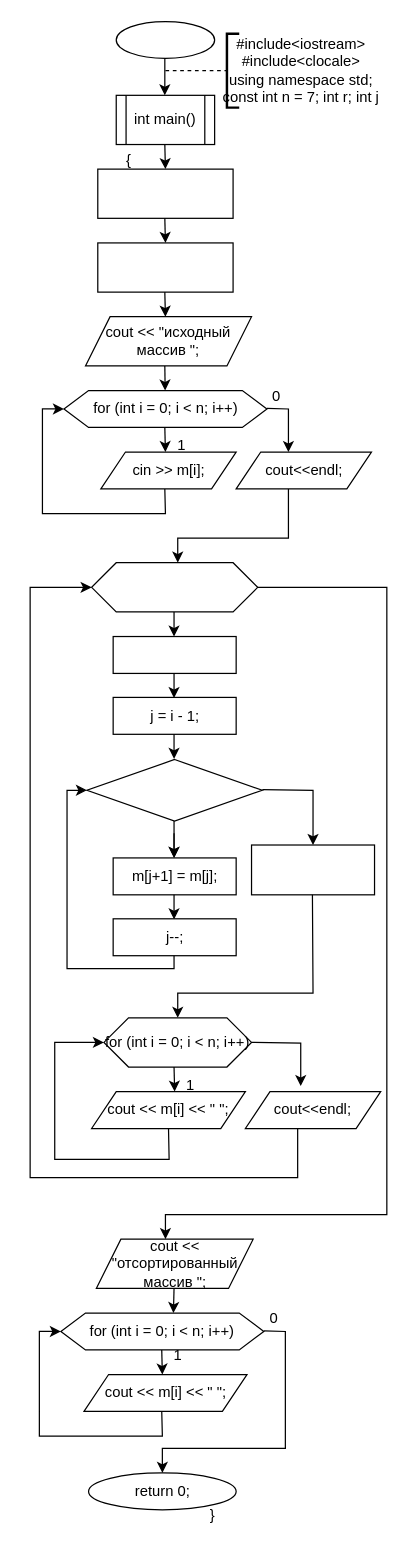
Image size: 418x1556. Some labels were removed from this diagram. Here are the shapes that lost their labels. From the top down, the centre of each, then its label:
pixel 165 39: начало
pixel 165 193: setlocale(LC_ALL, "RUS");
pixel 165 267: int m[n] = {};
pixel 174 586: for (int i = 1; i < n; i++)
pixel 174 654: r = m[i];
pixel 174 789: while (j >= 0 && r < m[j])
pixel 312 869: m[j + 1] = r;
